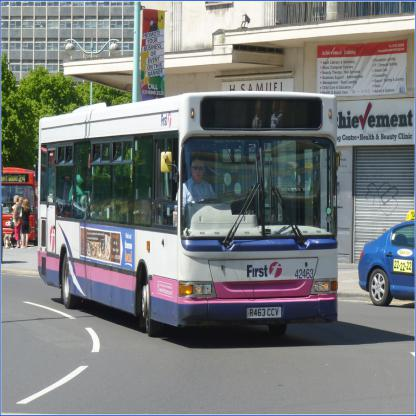Bus: (37, 93, 341, 340), (2, 168, 38, 243)
Car: (350, 208, 415, 314)
